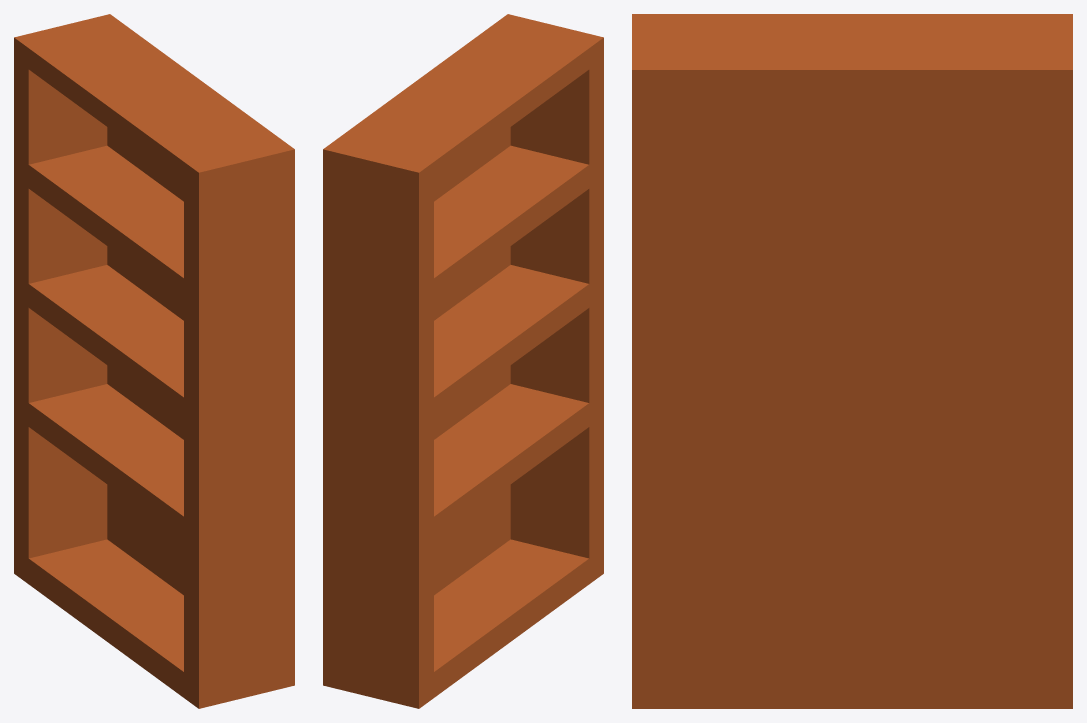
The model's file is bookshelf_01_mockup.fbx.
The picture shows the model from 3 angles, left to right: view 1: azimuth 30°, elevation 25°; view 2: azimuth 150°, elevation 25°; view 3: azimuth 270°, elevation 25°; orthographic projection. The views are drawn at different scales.
Parts seen in each view (by area): view 1: bookshelf_01; view 2: bookshelf_01; view 3: bookshelf_01.
Boxes of the visible parts, x1,y1,x2,y2 form: bookshelf_01: (14,14,294,708); bookshelf_01: (323,14,603,708); bookshelf_01: (632,14,1072,708).
Size of the model in its own units: 0.3 by 1 by 1.6.
